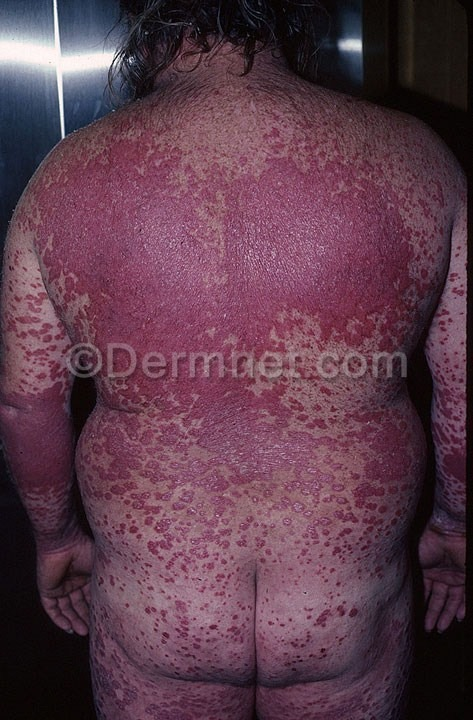Psoriasis: (44, 113, 442, 422), (79, 407, 423, 720), (5, 200, 96, 534), (426, 242, 473, 574)
